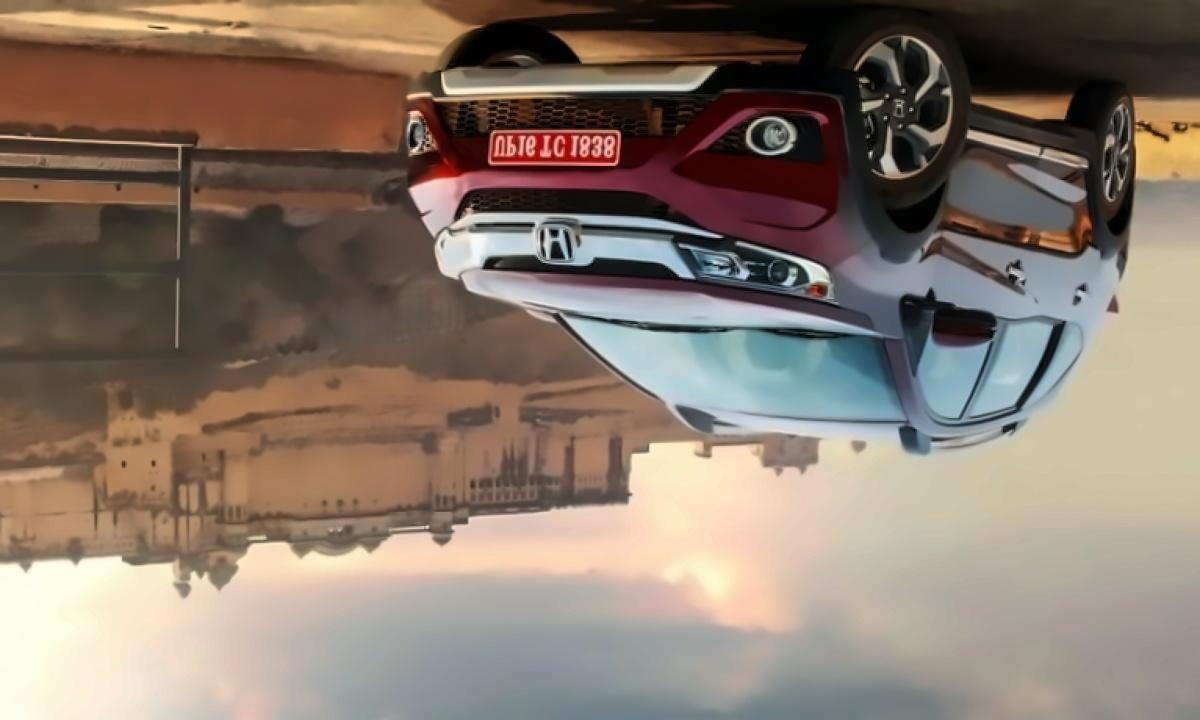Car hood: (452, 268, 880, 335)
Driver-s door - -F-R-: (905, 117, 1025, 444)
Front bumper: (396, 40, 877, 232)
Headlight - -L-: (416, 217, 483, 291)
Headlight - -R-: (662, 225, 851, 311)
Passenger-s door - -R-R-: (995, 136, 1091, 405)
Side bumper - -R-: (954, 87, 1095, 171)
Side mirror - -R-: (919, 284, 1006, 356)
